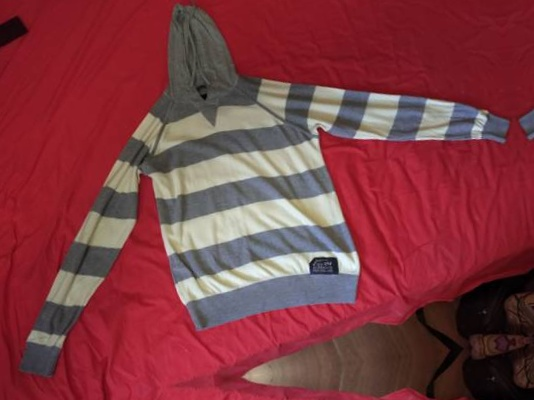Hoodie: (0, 0, 521, 377), (44, 368, 534, 400), (513, 0, 534, 310)
